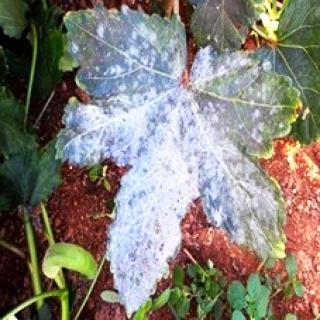grey mildew: (66, 12, 298, 306)
